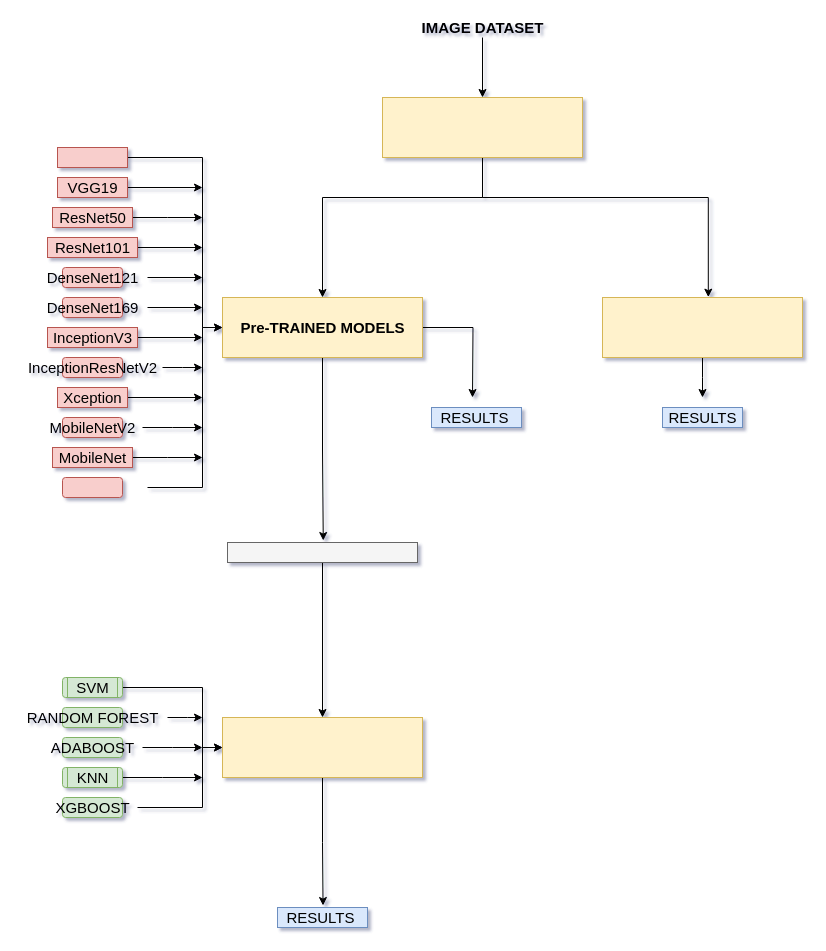
This 826x951 diagram has some shape labels left out. Each missing label, with the centre of its shape:
"Custom CNN Models" belongs at point 702,327.
"DATA AUGMENTATION" belongs at point 482,127.
"DenseNet201" belongs at point 92,487.
"FEATURE EXTRACTION" belongs at point 322,552.
"MACHINE LEARNING ALGORITHMS" belongs at point 322,747.
"VGG16" belongs at point 92,157.
